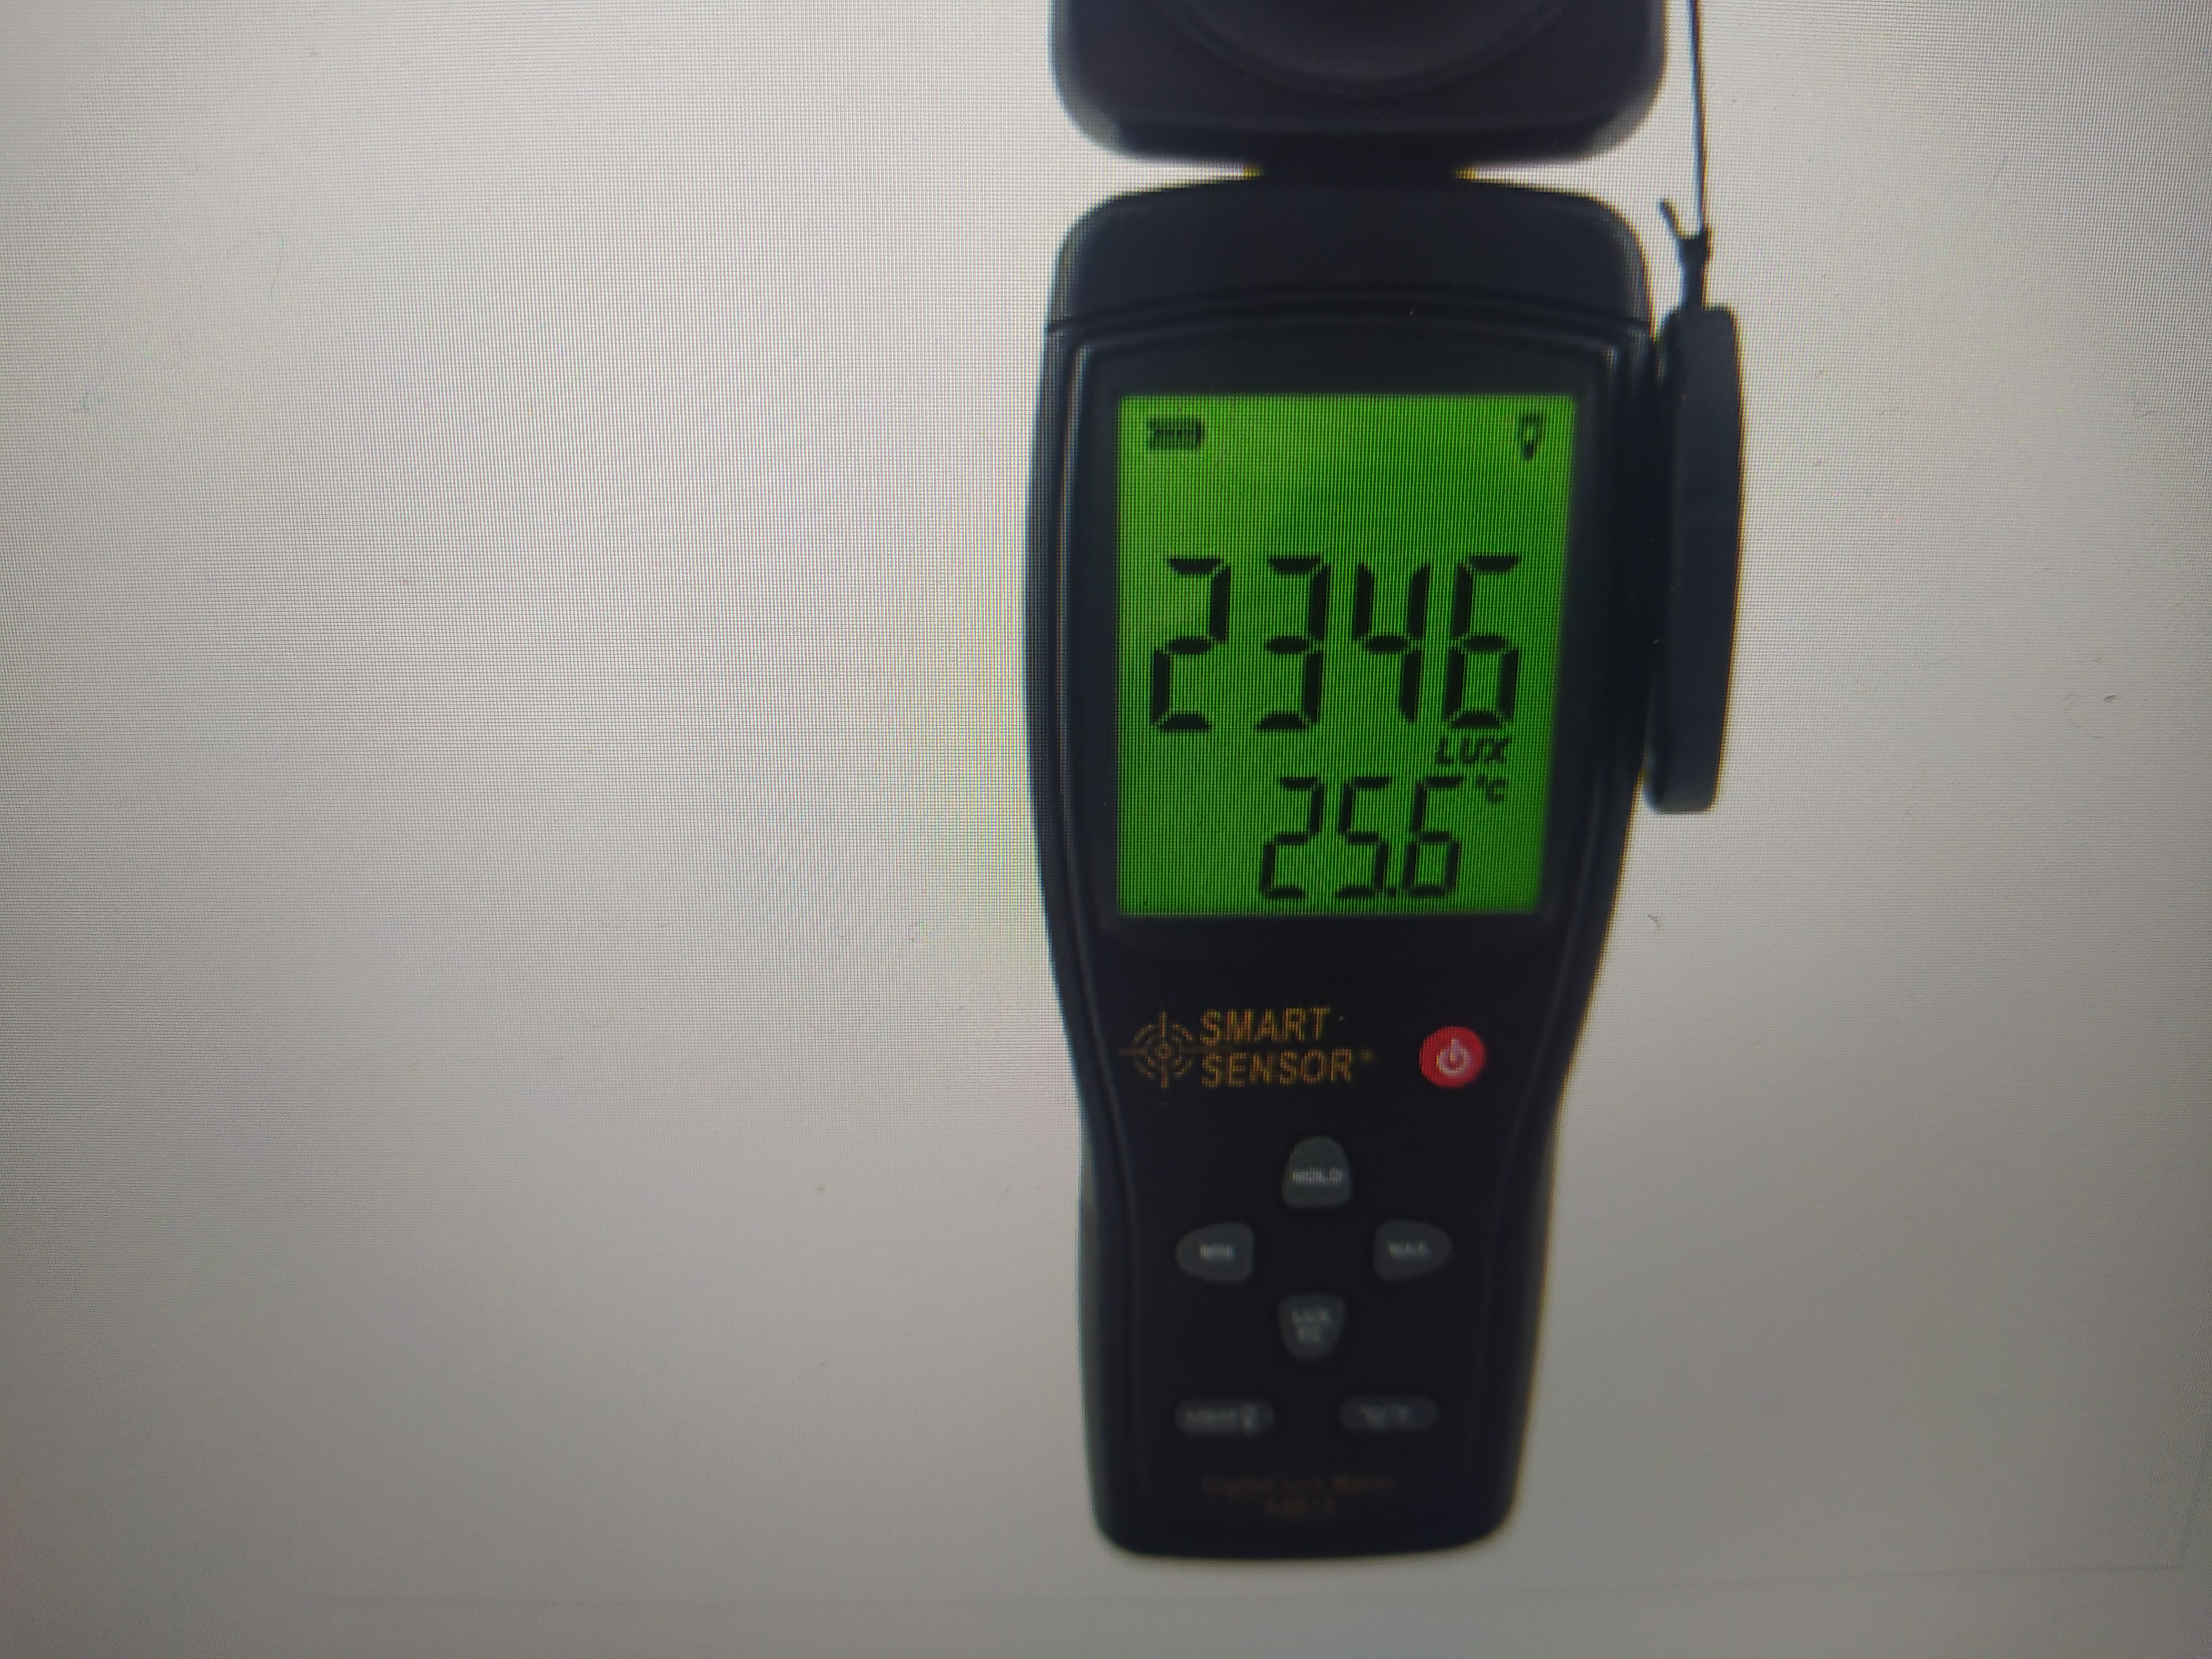.: (1385, 781, 1404, 899)
2: (1150, 556, 1235, 737), (1254, 774, 1325, 901)
3: (1261, 554, 1336, 741)
4: (1350, 561, 1428, 739)
5: (1332, 772, 1390, 904)
6: (1440, 554, 1524, 734), (1407, 774, 1467, 903)
